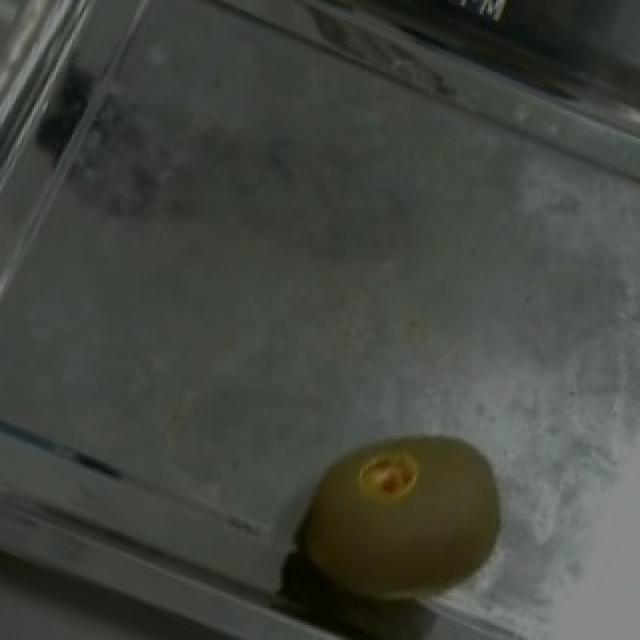Fruit: (254, 394, 534, 640)
